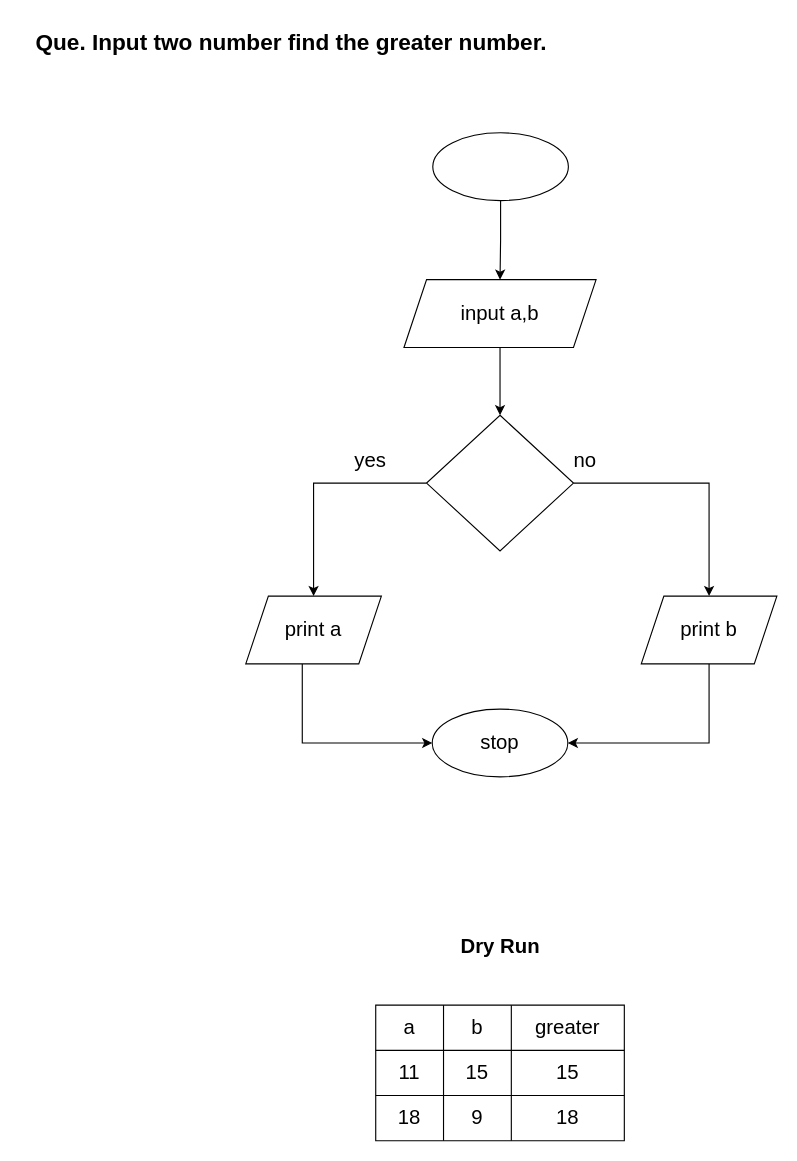
Image size: 797x1161. Some labels were removed from this diagram. The shapes that lost their labels are listed below. From the top down, each one's centre as x and y in pixels, then its label:
At (500,166): "start".
At (499,482): "if a>b".
